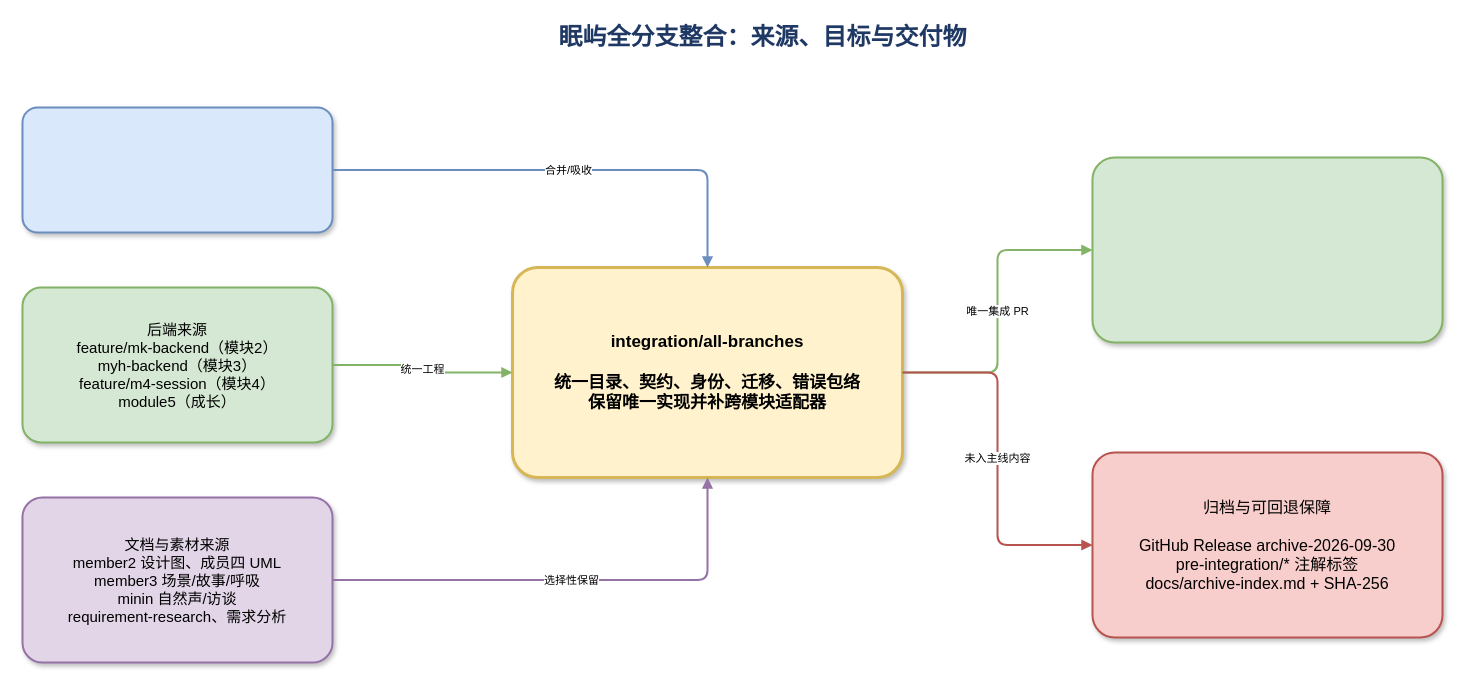
The diagram is 1466 pixels wide and 687 high, and some of its shapes have lost their labels. Each missing label, with the centre of its shape:
"PR #8 → main（评审后） Flutter / 浏览器前端 统一 Node + SQLite 后端 OpenAPI、UML、运行素材" belongs at (x=1268, y=251).
"前端来源 feature/module5-backend-integration feature/fronted" belongs at (x=178, y=171).
